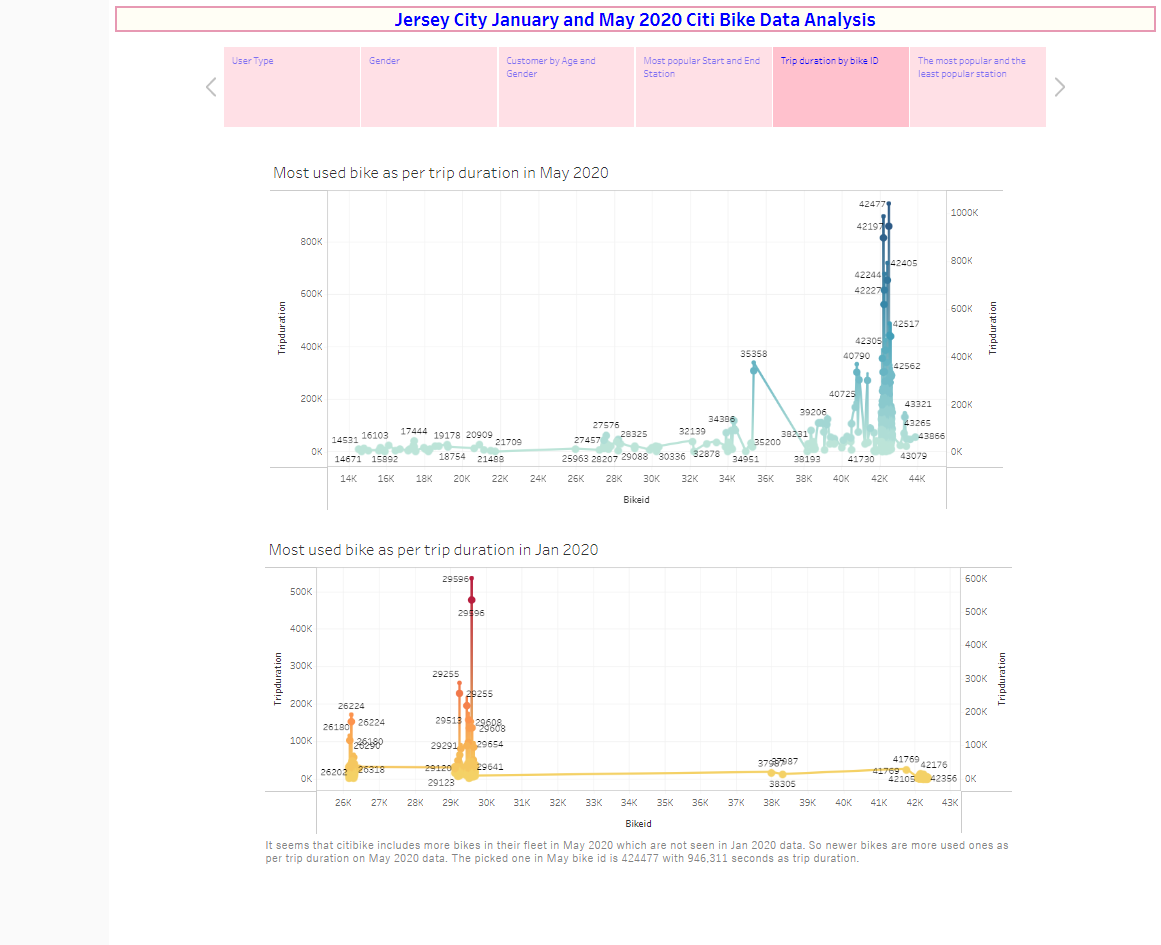

Layout of this report page (visuals, bound fields, positions):
{"tool":"tableau","page":{"name":"Dashboard 5","canvas":[1000,1160],"ordinal":4},"visuals":[{"type":"worksheet","title":"Most used bike as per trip duration in May 2020","mark":"Automatic","rows":["tripduration","tripduration"],"cols":["bikeid"],"box":[13.3,30,978.7,470]},{"type":"worksheet","title":"Most used bike as per trip duration in Jan 2020","mark":"Automatic","rows":["tripduration","tripduration"],"cols":["bikeid"],"box":[6.7,533,996,443]}]}

Visuals, with their boxes on the page's 1000x1160 design canvas (x1, y1, x2, y2). These are canvas units, not pixel positions in the 1161x945 screenshot, which may show the page scaled, cropped or inside an application window:
"Most used bike as per trip duration in May 2020" worksheet: (13,30,992,500)
"Most used bike as per trip duration in Jan 2020" worksheet: (7,533,1003,976)
